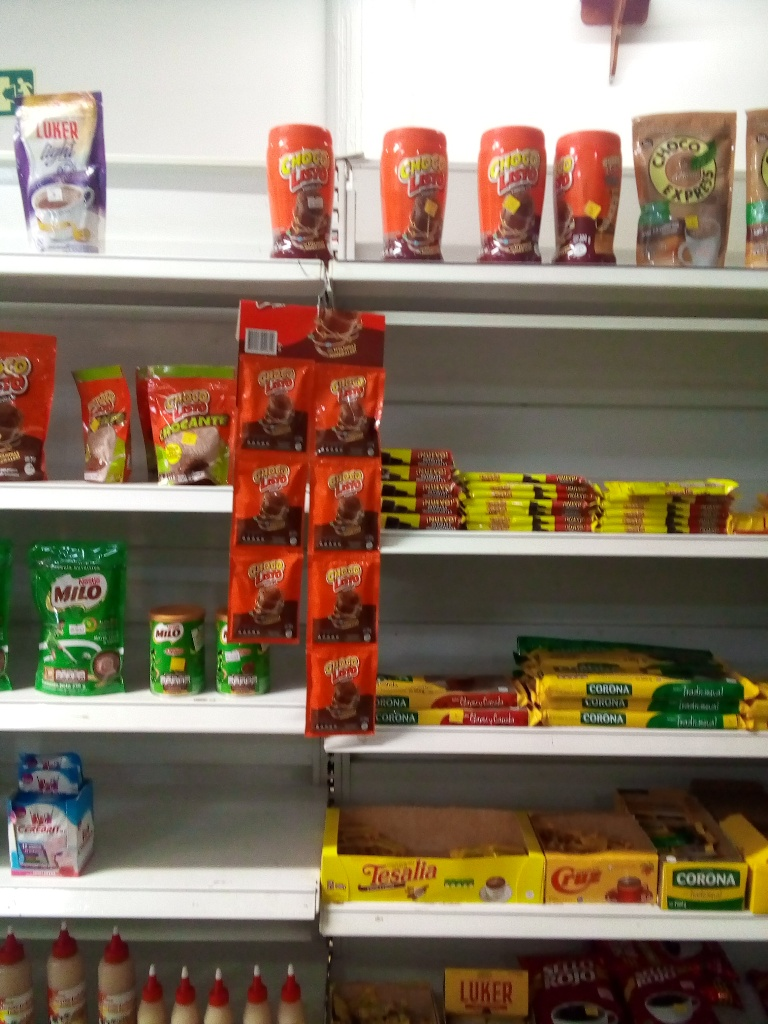COL0170103SOB02000: (240, 353, 312, 449)
COL0170203LAT20000: (150, 604, 209, 696)
